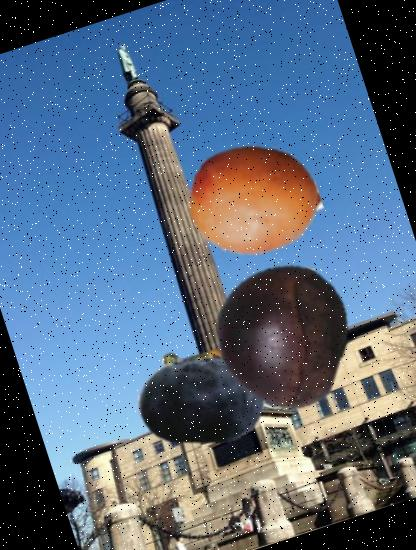Apricot: (172, 116, 336, 280)
Blueberry: (122, 318, 282, 478)
Cactus: (146, 302, 288, 444)
Chestnut: (190, 242, 372, 425)
